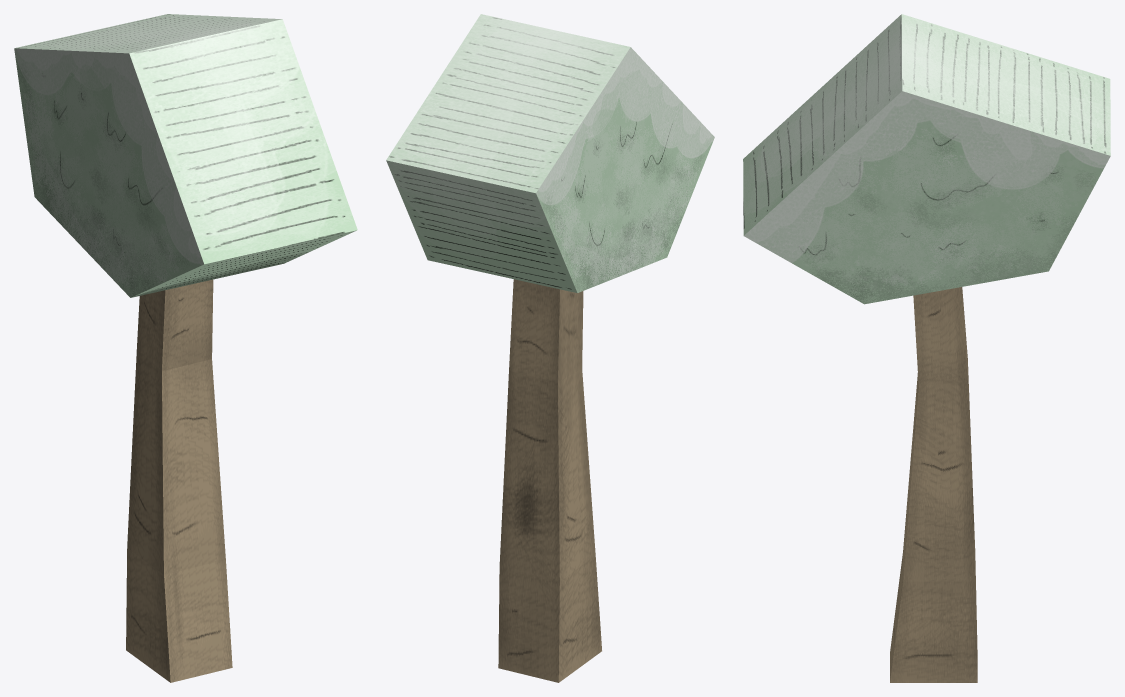
File: tree_b_0000.fbx
3 renders of one model, left to right at view 1: azimuth 30°, elevation 25°; view 2: azimuth 150°, elevation 25°; view 3: azimuth 270°, elevation 25°, orthographic. The views are drawn at different scales.
Parts seen in each view (by area): view 1: Cylinder, truck_0001; view 2: Cylinder, truck_0001; view 3: Cylinder, truck_0001.
Part boxes in pixels (x1,y1,x2,y2): Cylinder: (14,14,357,297); truck_0001: (126,279,232,682); Cylinder: (386,14,714,292); truck_0001: (498,279,601,682); Cylinder: (743,14,1110,304); truck_0001: (890,287,977,682).
Bounding box in the file's own units: 372 × 1296 × 694.
Materials: 2 (2 with a texture image).
